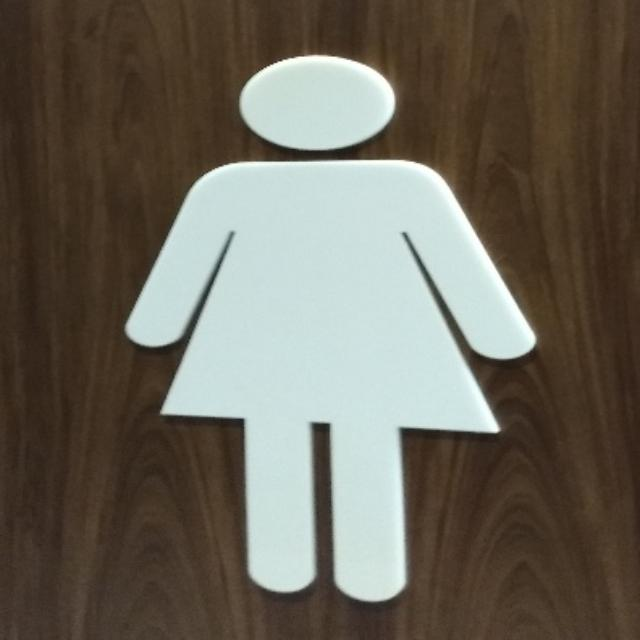wc nu: (126, 55, 533, 600)
